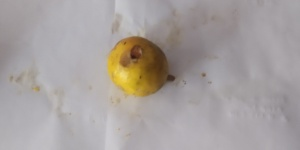BAD: (105, 33, 171, 100)
